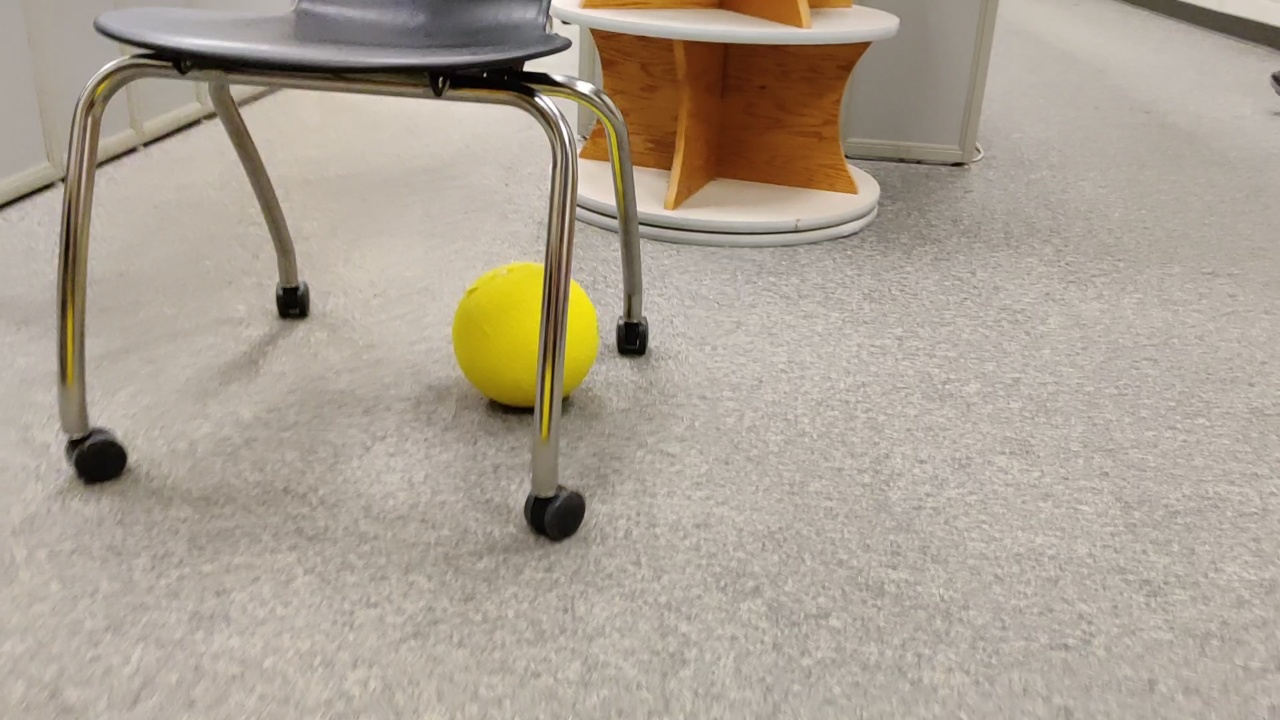Ball: (456, 258, 601, 401)
